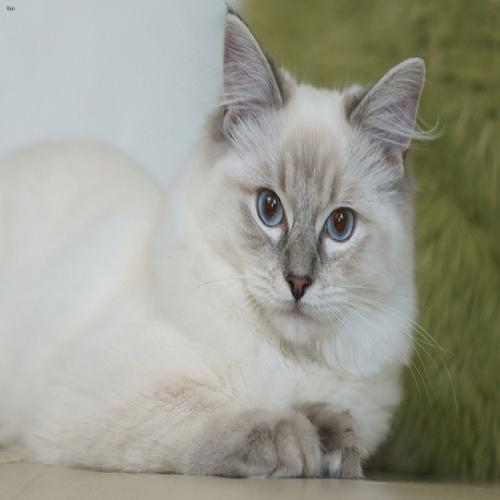ragdoll: (203, 1, 427, 347)
